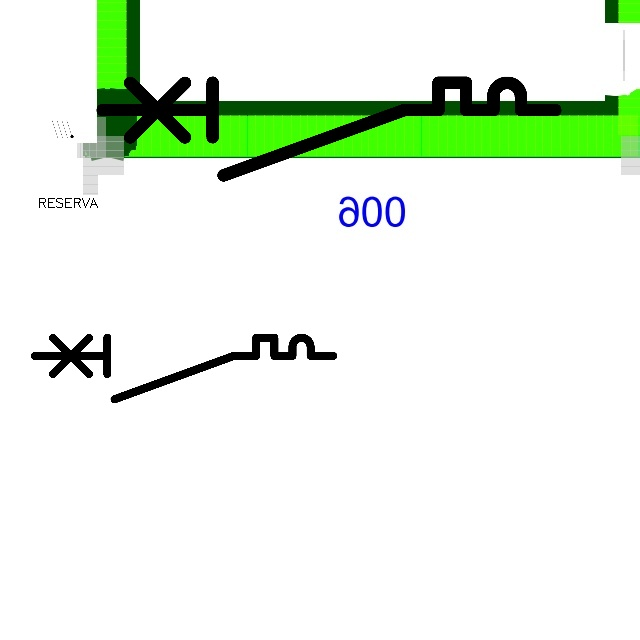interruptor_termomagnetico: (90, 71, 566, 187), (27, 330, 341, 407)
